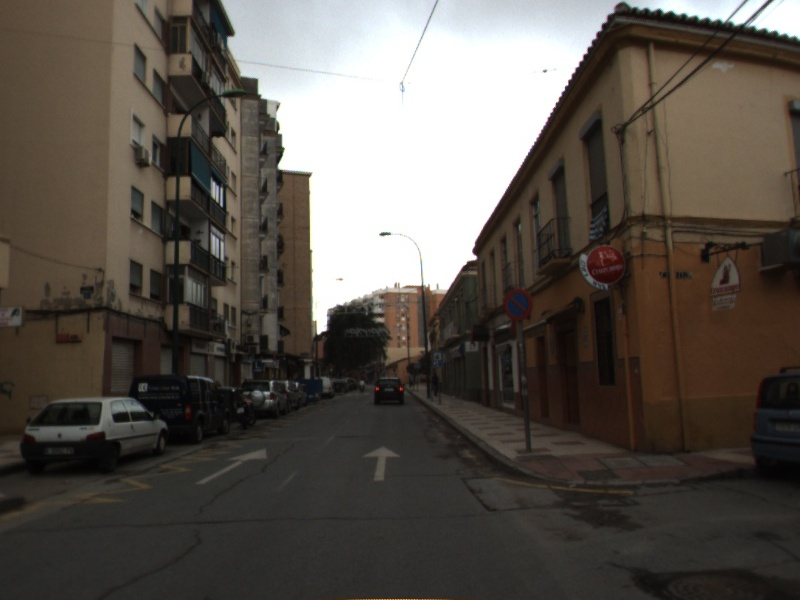STRAIGHT: (193, 445, 269, 486), (359, 443, 403, 483)
